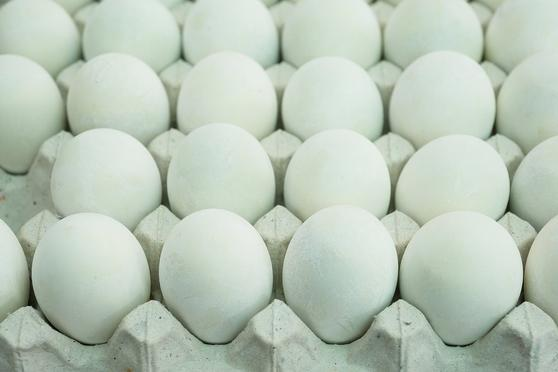egg: (405, 209, 523, 349), (280, 204, 398, 340), (159, 210, 275, 347), (32, 216, 148, 352)
